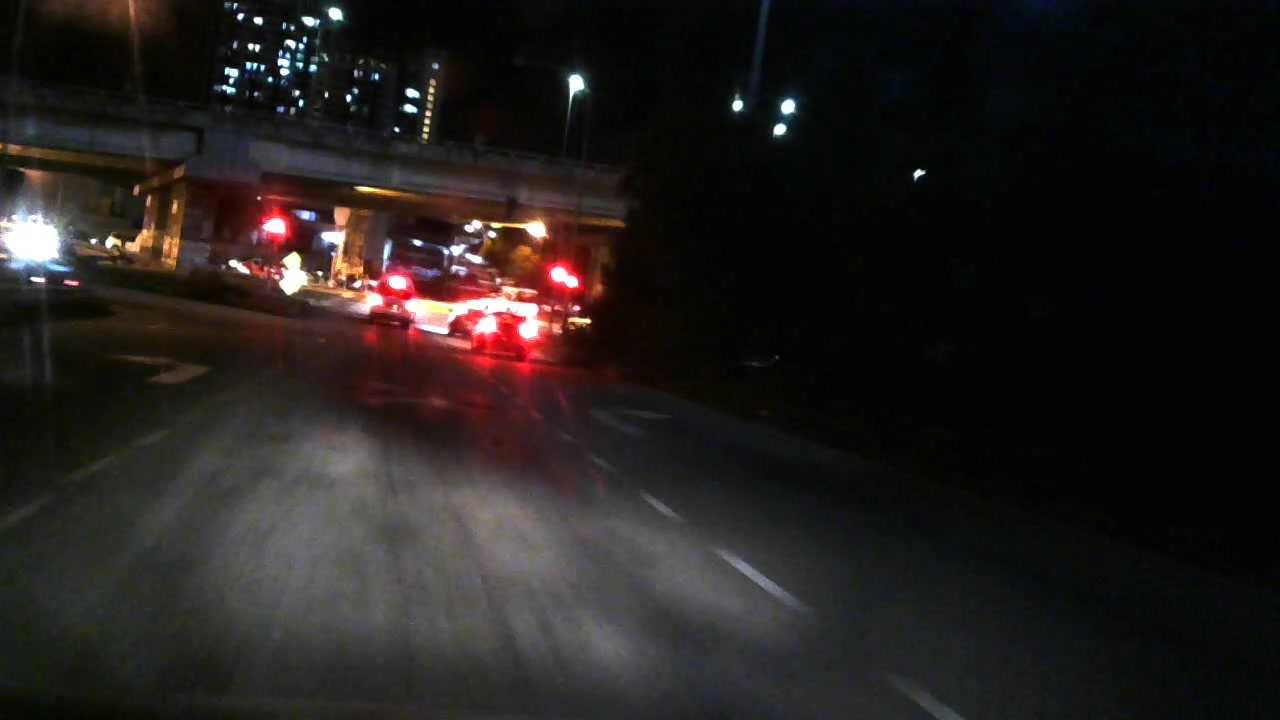Car: (468, 309, 546, 365), (14, 257, 91, 307), (363, 271, 424, 329)
